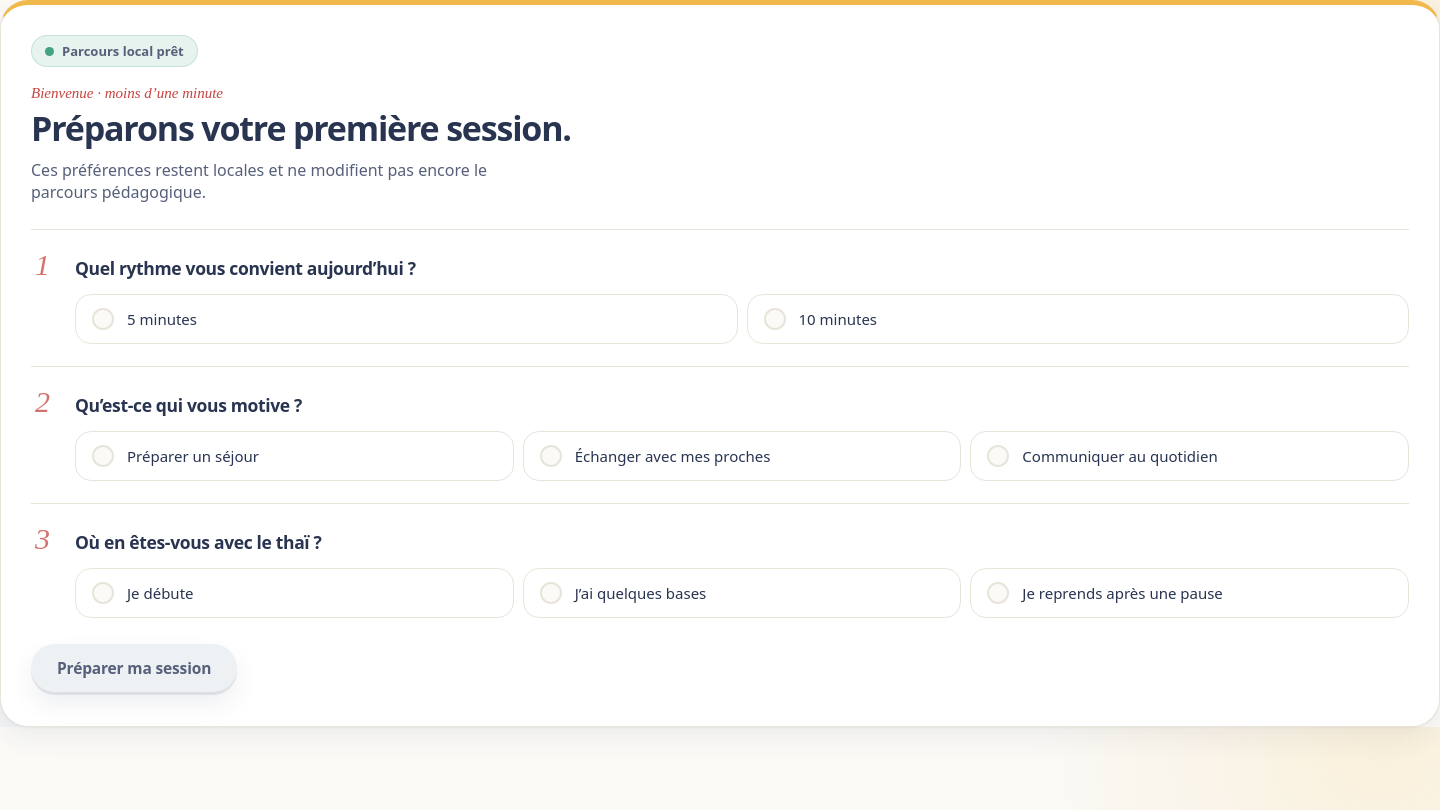
Test: écran Aujourd’hui web › termine un onboarding local borné puis affiche une seule action
The width and height of the screenshot is (1440, 810).
Expected: the heading "Préparons votre première session." is shown, top-left (31, 105), bottom-right (571, 151)
Expected: the button "Préparer ma session" is disabled, top-left (31, 644), bottom-right (237, 692)
Click the radio button labelled "10 minutes".
click(774, 319)  # box top-left (764, 308), bottom-right (786, 330)
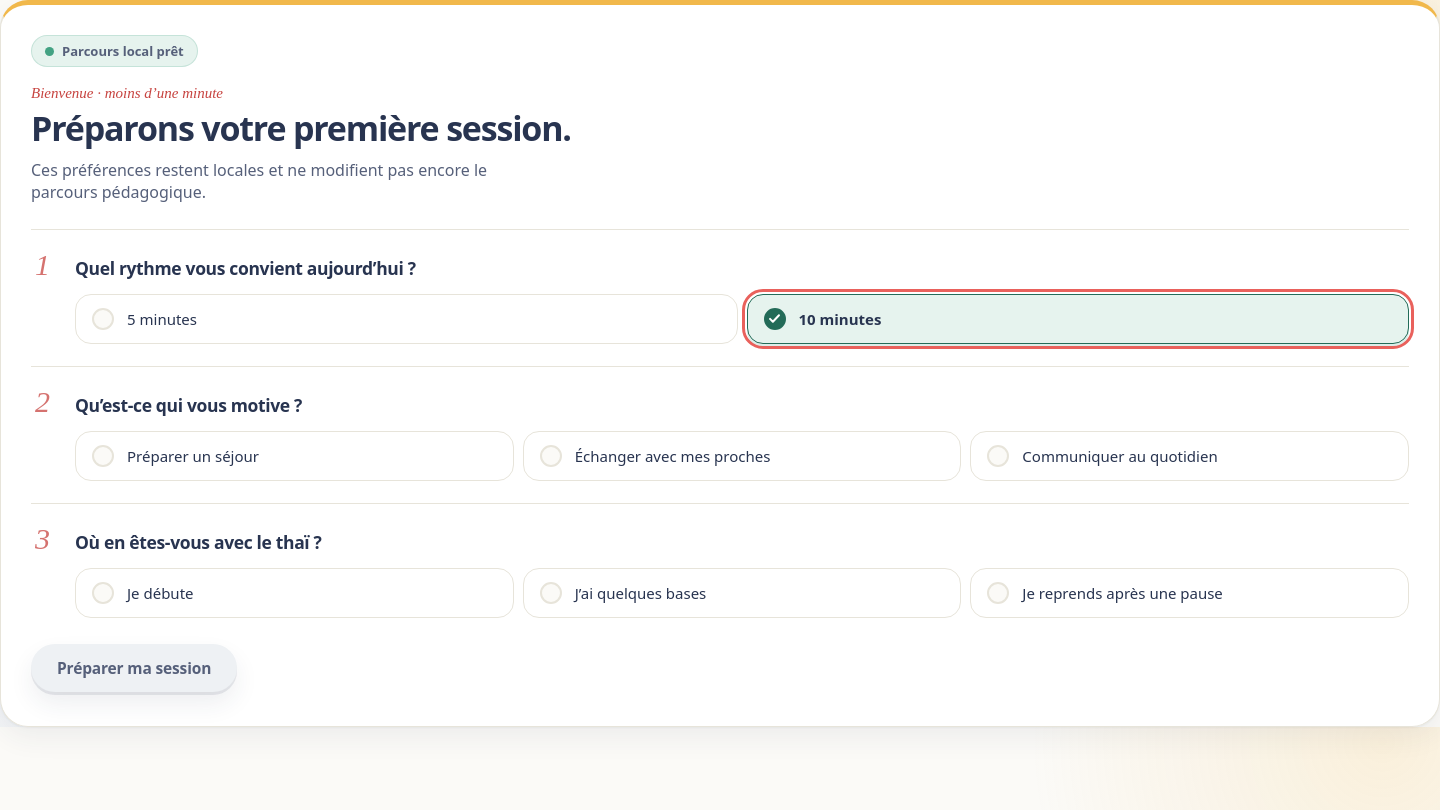
Click the radio button labelled "Communiquer au quotidien".
click(998, 456)  # box top-left (987, 445), bottom-right (1009, 467)
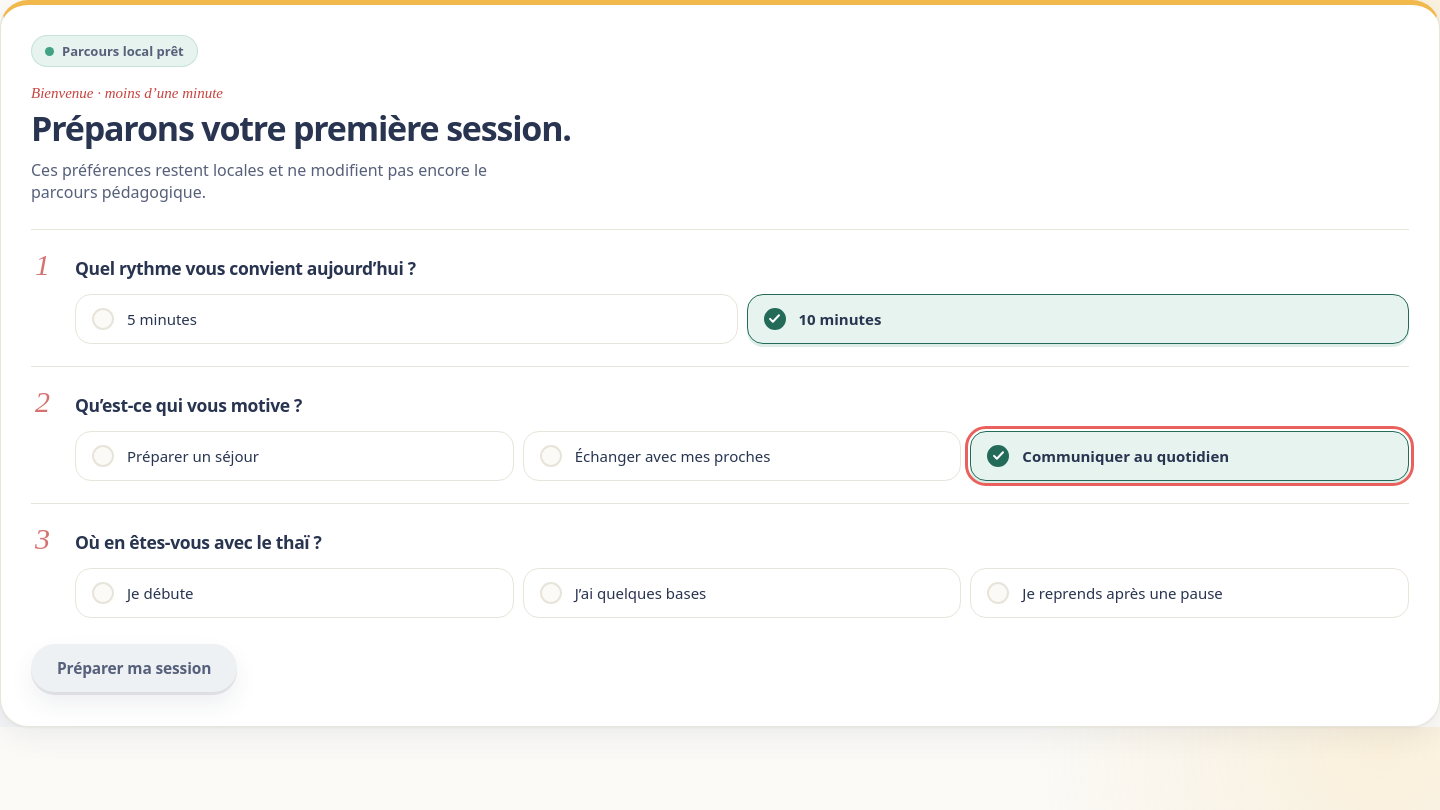
Click the radio button labelled "J’ai quelques bases".
click(551, 593)  # box top-left (540, 582), bottom-right (562, 604)
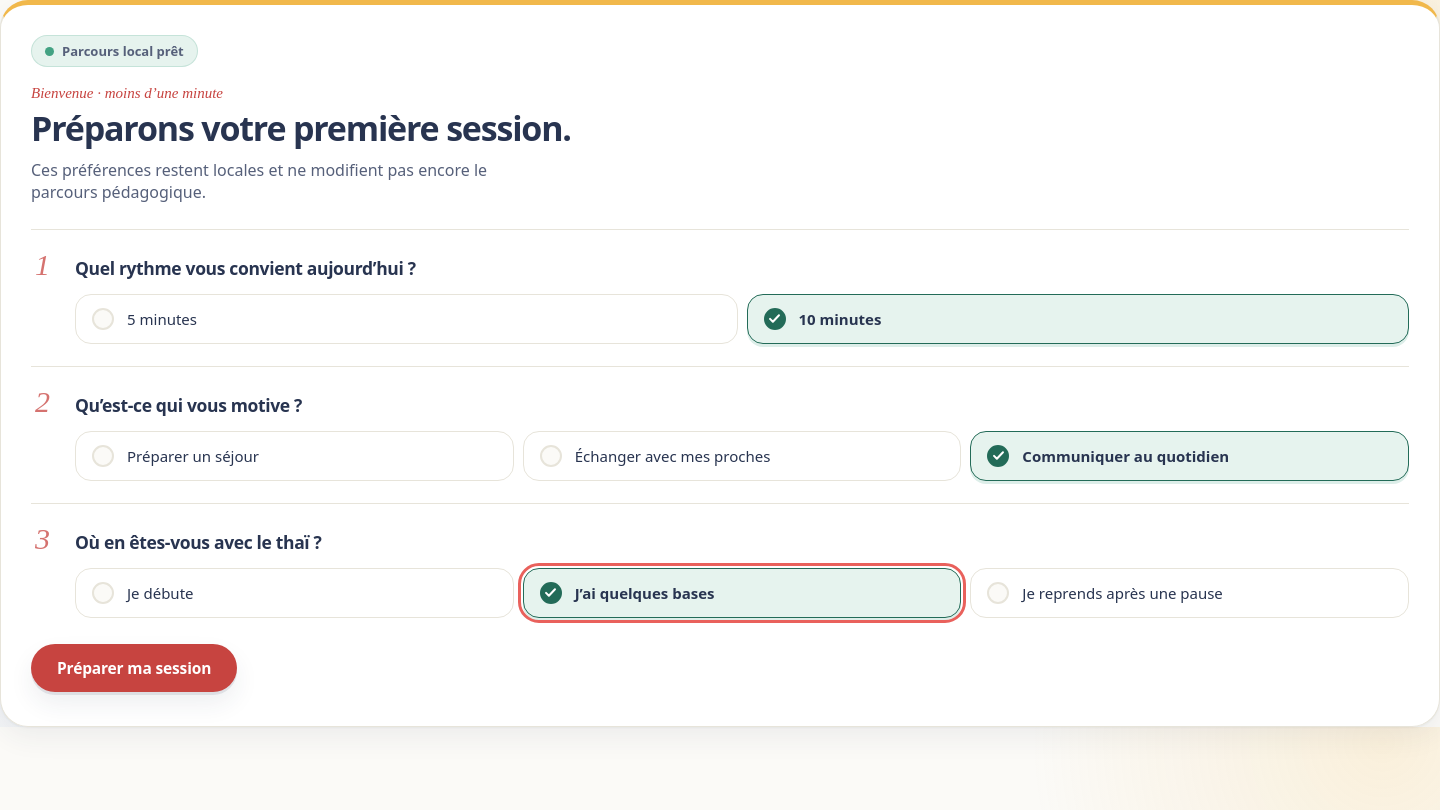
Click the button "Préparer ma session".
click(134, 668)  # box top-left (31, 644), bottom-right (237, 692)
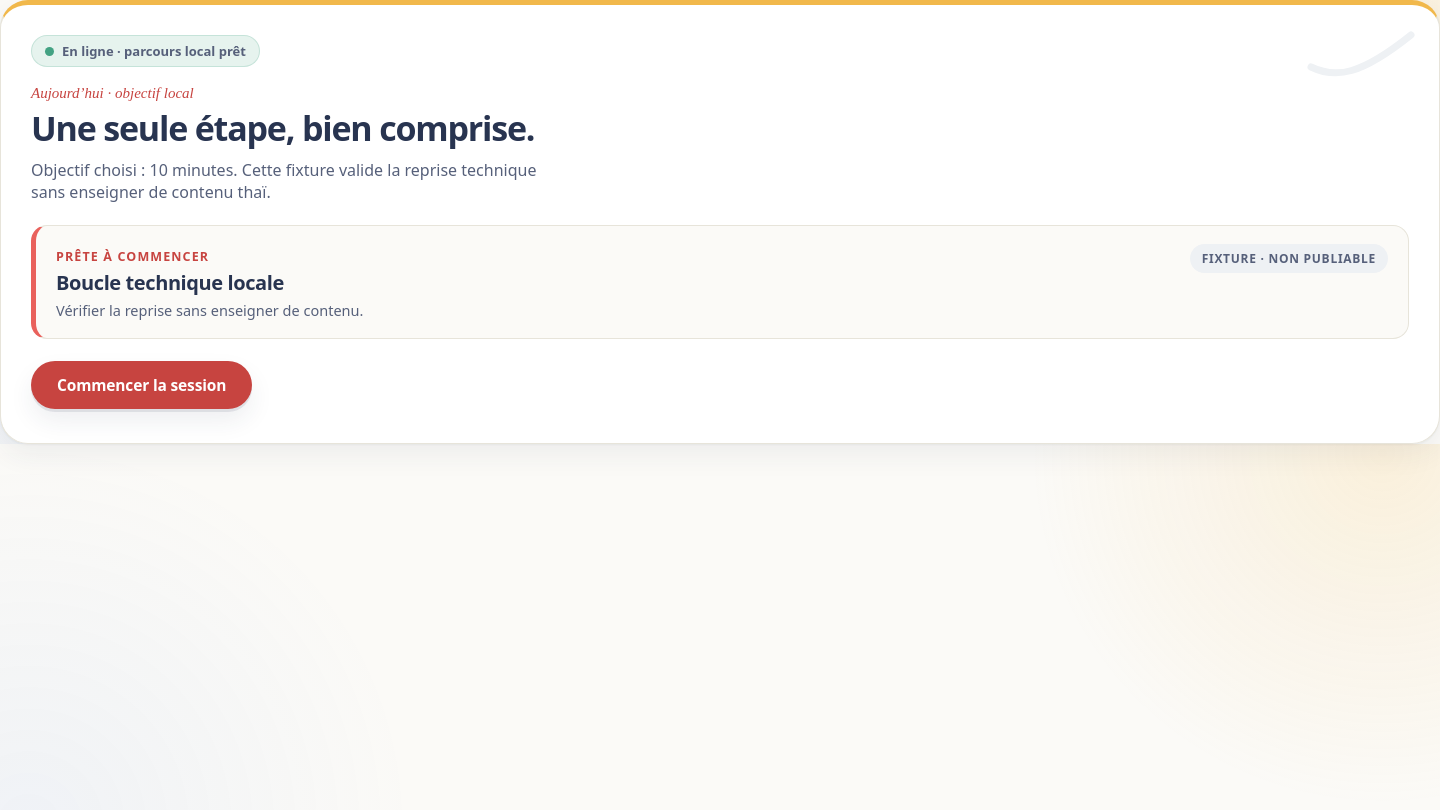
Result: the heading "Une seule étape, bien comprise." is shown at top-left (31, 105), bottom-right (534, 151)
